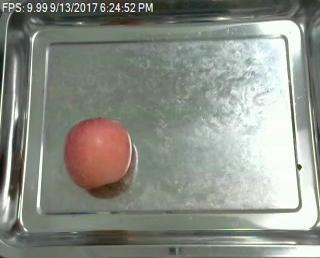apple: (63, 118, 132, 190)
